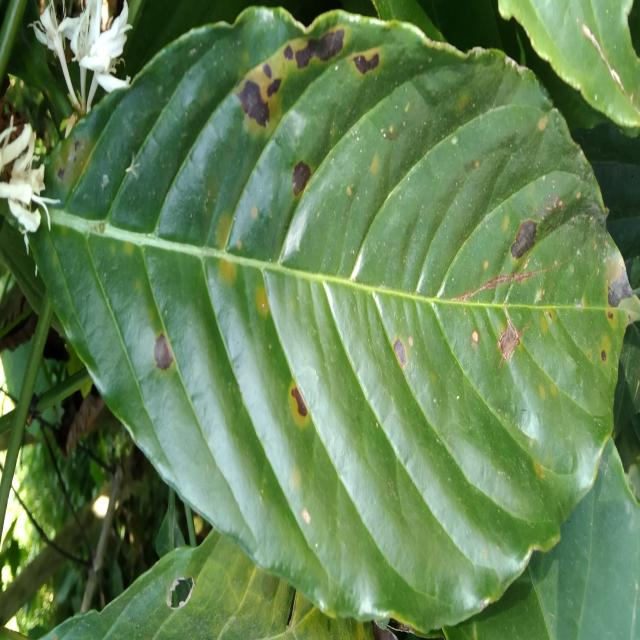Enfermedad-Mancha-de-hierro: (27, 7, 636, 636)
